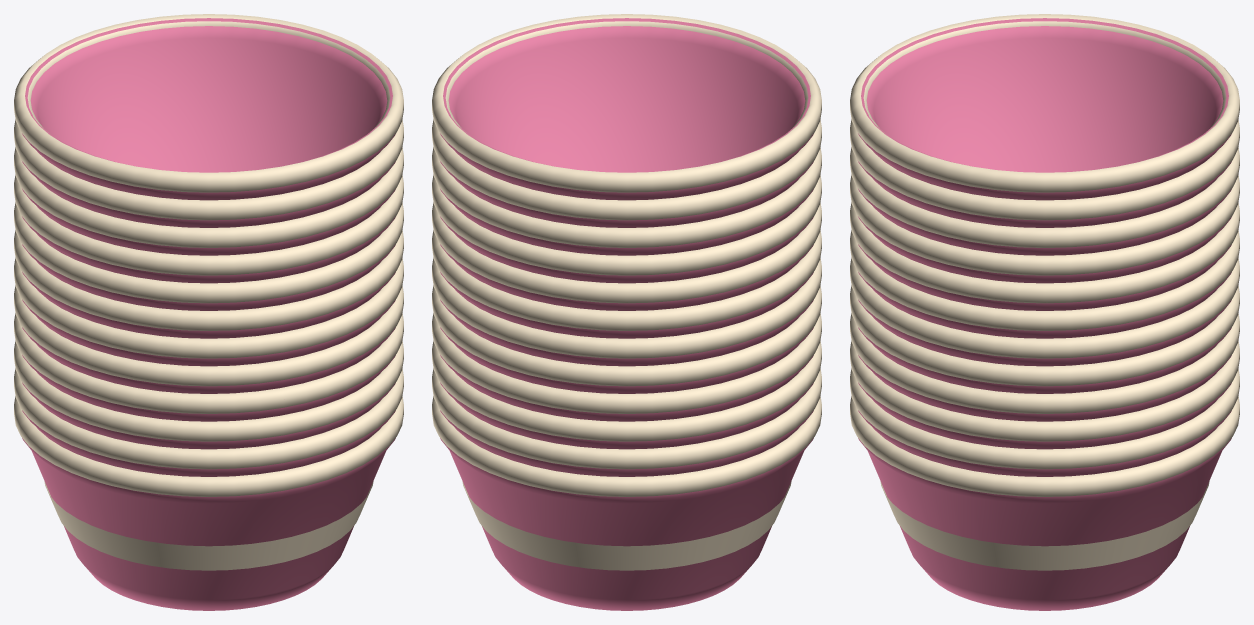
The model's file is Bowl_stack_12.fbx.
The picture shows the model from 3 angles, left to right: view 1: azimuth 30°, elevation 25°; view 2: azimuth 150°, elevation 25°; view 3: azimuth 270°, elevation 25°; orthographic projection.
Parts seen in each view (by area): view 1: Toon_Bowl_stack_12 Paper bowl.023, Toon_Bowl_stack_12 Paper bowl.012, Toon_Bowl_stack_12 Rolled paper rim.023, Toon_Bowl_stack_12 Rolled paper rim.018, Toon_Bowl_stack_12 Rolled paper rim.015, Toon_Bowl_stack_12 Rolled paper rim.017, Toon_Bowl_stack_12 Rolled paper rim.020, Toon_Bowl_stack_12 Rolled paper rim.012, Toon_Bowl_stack_12 Rolled paper rim.014, Toon_Bowl_stack_12 Rolled paper rim.021, Toon_Bowl_stack_12 Rolled paper rim.019, Toon_Bowl_stack_12 Rolled paper rim.013 (+13 smaller); view 2: Toon_Bowl_stack_12 Paper bowl.023, Toon_Bowl_stack_12 Paper bowl.012, Toon_Bowl_stack_12 Rolled paper rim.023, Toon_Bowl_stack_12 Rolled paper rim.018, Toon_Bowl_stack_12 Rolled paper rim.015, Toon_Bowl_stack_12 Rolled paper rim.017, Toon_Bowl_stack_12 Rolled paper rim.020, Toon_Bowl_stack_12 Rolled paper rim.012, Toon_Bowl_stack_12 Rolled paper rim.014, Toon_Bowl_stack_12 Rolled paper rim.021, Toon_Bowl_stack_12 Rolled paper rim.019, Toon_Bowl_stack_12 Rolled paper rim.013 (+13 smaller); view 3: Toon_Bowl_stack_12 Paper bowl.023, Toon_Bowl_stack_12 Paper bowl.012, Toon_Bowl_stack_12 Rolled paper rim.023, Toon_Bowl_stack_12 Rolled paper rim.018, Toon_Bowl_stack_12 Rolled paper rim.015, Toon_Bowl_stack_12 Rolled paper rim.017, Toon_Bowl_stack_12 Rolled paper rim.020, Toon_Bowl_stack_12 Rolled paper rim.012, Toon_Bowl_stack_12 Rolled paper rim.014, Toon_Bowl_stack_12 Rolled paper rim.021, Toon_Bowl_stack_12 Rolled paper rim.019, Toon_Bowl_stack_12 Rolled paper rim.013 (+13 smaller).
Boxes of the visible parts, box(x1,y1,x2,y2) form: Toon_Bowl_stack_12 Paper bowl.023: box(22, 18, 395, 200); Toon_Bowl_stack_12 Paper bowl.012: box(22, 438, 395, 610); Toon_Bowl_stack_12 Rolled paper rim.023: box(14, 14, 403, 192); Toon_Bowl_stack_12 Rolled paper rim.018: box(14, 230, 403, 330); Toon_Bowl_stack_12 Rolled paper rim.015: box(14, 313, 403, 413); Toon_Bowl_stack_12 Rolled paper rim.017: box(14, 258, 403, 358); Toon_Bowl_stack_12 Rolled paper rim.020: box(14, 175, 403, 275); Toon_Bowl_stack_12 Rolled paper rim.012: box(14, 396, 403, 496); Toon_Bowl_stack_12 Rolled paper rim.014: box(14, 341, 403, 441); Toon_Bowl_stack_12 Rolled paper rim.021: box(14, 147, 403, 247); Toon_Bowl_stack_12 Rolled paper rim.019: box(14, 202, 403, 303); Toon_Bowl_stack_12 Rolled paper rim.013: box(14, 368, 403, 469); Toon_Bowl_stack_12 Paper bowl.023: box(440, 18, 813, 200); Toon_Bowl_stack_12 Paper bowl.012: box(440, 438, 813, 610); Toon_Bowl_stack_12 Rolled paper rim.023: box(432, 14, 821, 192); Toon_Bowl_stack_12 Rolled paper rim.018: box(432, 230, 821, 330); Toon_Bowl_stack_12 Rolled paper rim.015: box(432, 313, 821, 413); Toon_Bowl_stack_12 Rolled paper rim.017: box(432, 258, 821, 358); Toon_Bowl_stack_12 Rolled paper rim.020: box(432, 175, 821, 275); Toon_Bowl_stack_12 Rolled paper rim.012: box(432, 396, 821, 496); Toon_Bowl_stack_12 Rolled paper rim.014: box(432, 341, 821, 441); Toon_Bowl_stack_12 Rolled paper rim.021: box(432, 147, 821, 247); Toon_Bowl_stack_12 Rolled paper rim.019: box(432, 202, 821, 303); Toon_Bowl_stack_12 Rolled paper rim.013: box(432, 368, 821, 469); Toon_Bowl_stack_12 Paper bowl.023: box(858, 18, 1231, 200); Toon_Bowl_stack_12 Paper bowl.012: box(858, 438, 1231, 610); Toon_Bowl_stack_12 Rolled paper rim.023: box(850, 14, 1239, 192); Toon_Bowl_stack_12 Rolled paper rim.018: box(850, 230, 1239, 330); Toon_Bowl_stack_12 Rolled paper rim.015: box(850, 313, 1239, 413); Toon_Bowl_stack_12 Rolled paper rim.017: box(850, 258, 1239, 358); Toon_Bowl_stack_12 Rolled paper rim.020: box(850, 175, 1239, 275); Toon_Bowl_stack_12 Rolled paper rim.012: box(850, 396, 1239, 496); Toon_Bowl_stack_12 Rolled paper rim.014: box(850, 341, 1239, 441); Toon_Bowl_stack_12 Rolled paper rim.021: box(850, 147, 1239, 247); Toon_Bowl_stack_12 Rolled paper rim.019: box(850, 202, 1239, 303); Toon_Bowl_stack_12 Rolled paper rim.013: box(850, 368, 1239, 469).
Bounding box in the file's own units: 16.6 × 21.9 × 16.6.
